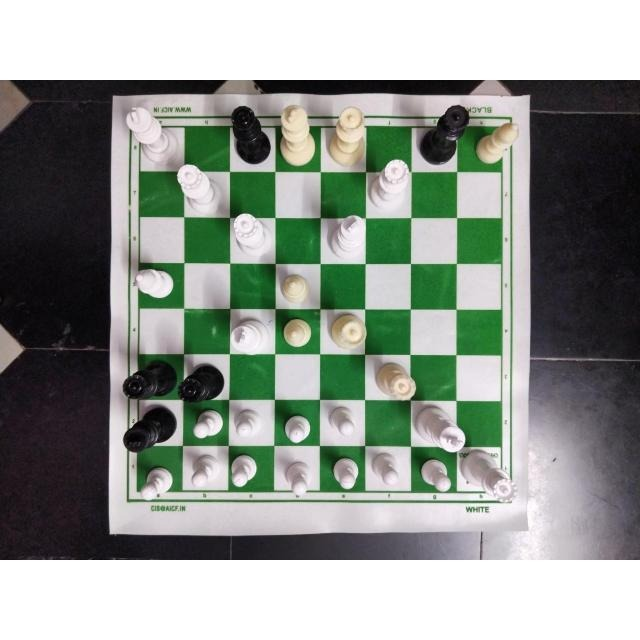black-king: (121, 406, 177, 450)
black-queen: (420, 102, 470, 165), (227, 105, 273, 165), (118, 360, 178, 400), (176, 364, 225, 402)
white-bishop: (474, 118, 519, 165), (135, 265, 179, 304), (278, 270, 314, 304), (281, 316, 315, 348)
white-king: (122, 105, 182, 163), (275, 101, 317, 169), (413, 403, 469, 453), (327, 213, 366, 261), (226, 315, 270, 353)
white-pawn: (415, 456, 454, 495), (138, 462, 175, 502), (323, 402, 359, 442), (281, 453, 313, 497), (326, 454, 359, 494), (371, 448, 403, 489), (278, 413, 314, 447), (230, 406, 266, 440), (191, 406, 225, 442), (188, 454, 222, 490), (227, 452, 260, 488)
white-queen: (460, 451, 520, 505), (328, 104, 370, 168), (174, 163, 224, 215), (368, 158, 413, 214), (230, 213, 276, 257), (372, 359, 416, 401), (328, 310, 368, 349)
